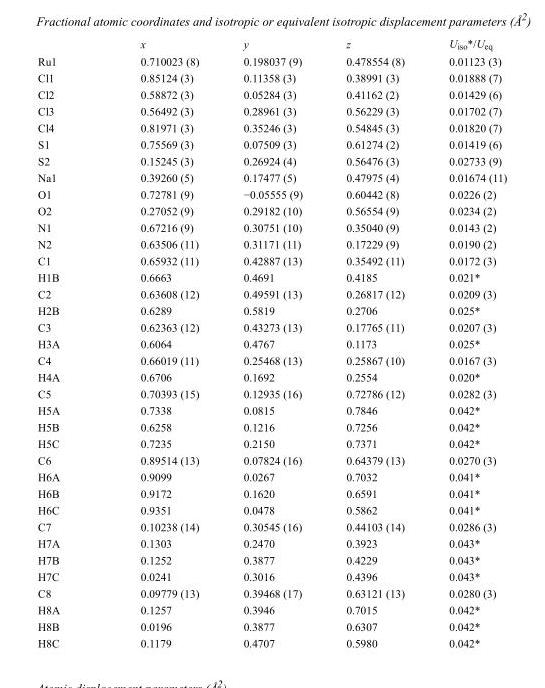table: (37, 36, 506, 648)
table column: (99, 36, 220, 648), (220, 36, 323, 648), (323, 36, 426, 648), (426, 36, 506, 648), (37, 36, 99, 648)
table column header: (37, 36, 506, 52)
table row: (37, 52, 506, 69), (37, 85, 506, 102), (37, 102, 506, 119), (37, 135, 506, 152), (37, 168, 506, 185), (37, 185, 506, 202), (37, 218, 506, 235), (37, 235, 506, 252), (37, 268, 506, 285), (37, 301, 506, 318), (37, 318, 506, 335), (37, 351, 506, 368), (37, 368, 506, 385), (37, 401, 506, 418), (37, 434, 506, 451), (37, 451, 506, 468), (37, 484, 506, 501), (37, 501, 506, 518), (37, 534, 506, 551), (37, 567, 506, 584), (37, 584, 506, 601), (37, 617, 506, 634), (37, 36, 506, 52), (37, 69, 506, 85), (37, 119, 506, 135), (37, 152, 506, 168), (37, 202, 506, 218), (37, 252, 506, 268), (37, 285, 506, 301), (37, 335, 506, 351), (37, 385, 506, 401), (37, 418, 506, 434), (37, 468, 506, 484), (37, 518, 506, 534), (37, 551, 506, 567), (37, 601, 506, 617), (37, 634, 506, 648)
